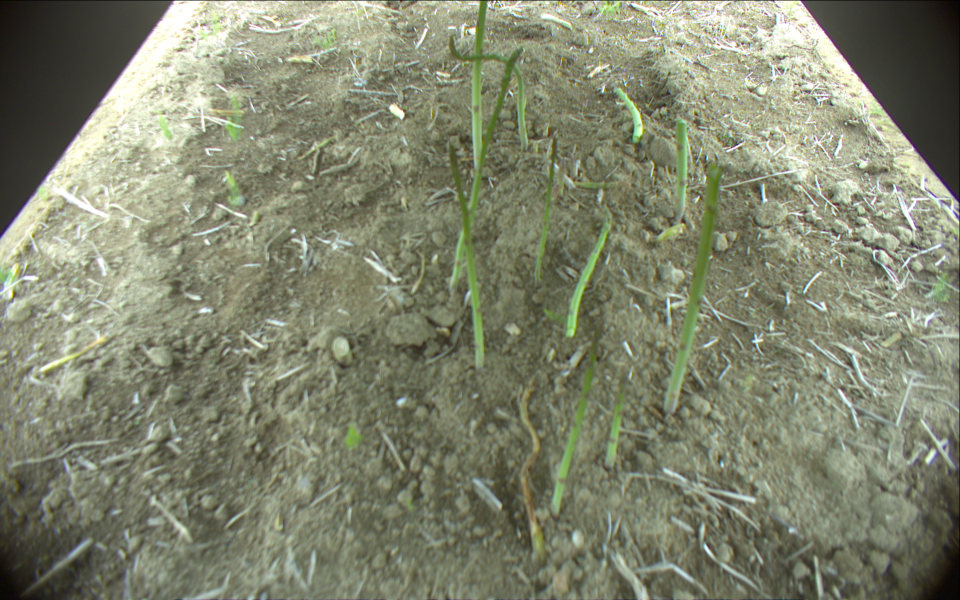aspa: (446, 47, 525, 289), (662, 160, 725, 414), (549, 318, 606, 514), (447, 36, 529, 147), (447, 142, 484, 371), (531, 135, 559, 286), (471, 1, 488, 168), (603, 371, 630, 474), (672, 116, 691, 225), (612, 85, 642, 142)
